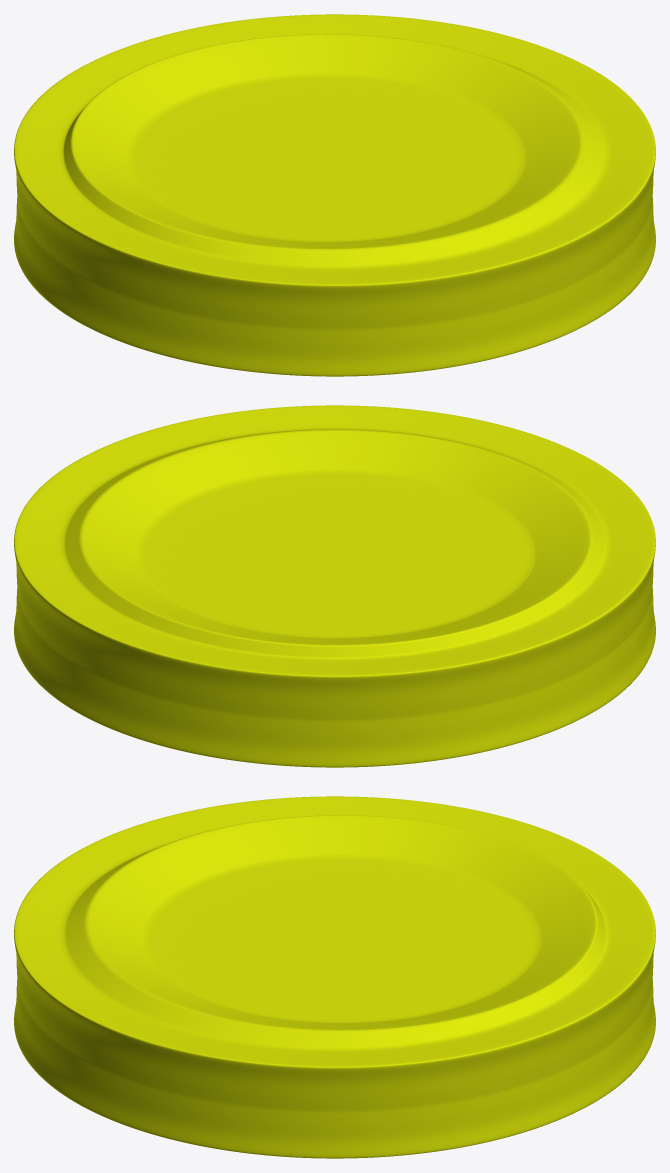
File: Coin.fbx
The picture shows the model from 3 angles, top to bottom: view 1: azimuth 30°, elevation 25°; view 2: azimuth 150°, elevation 25°; view 3: azimuth 270°, elevation 25°; orthographic projection.
Parts seen in each view (by area): view 1: Cylinder; view 2: Cylinder; view 3: Cylinder.
Part boxes in pixels (left/top/right/bottom): Cylinder: left=14, top=14, right=655, bottom=376; Cylinder: left=14, top=405, right=655, bottom=767; Cylinder: left=14, top=796, right=655, bottom=1158.
Size of the model in its own units: 198 by 35.54 by 198.
